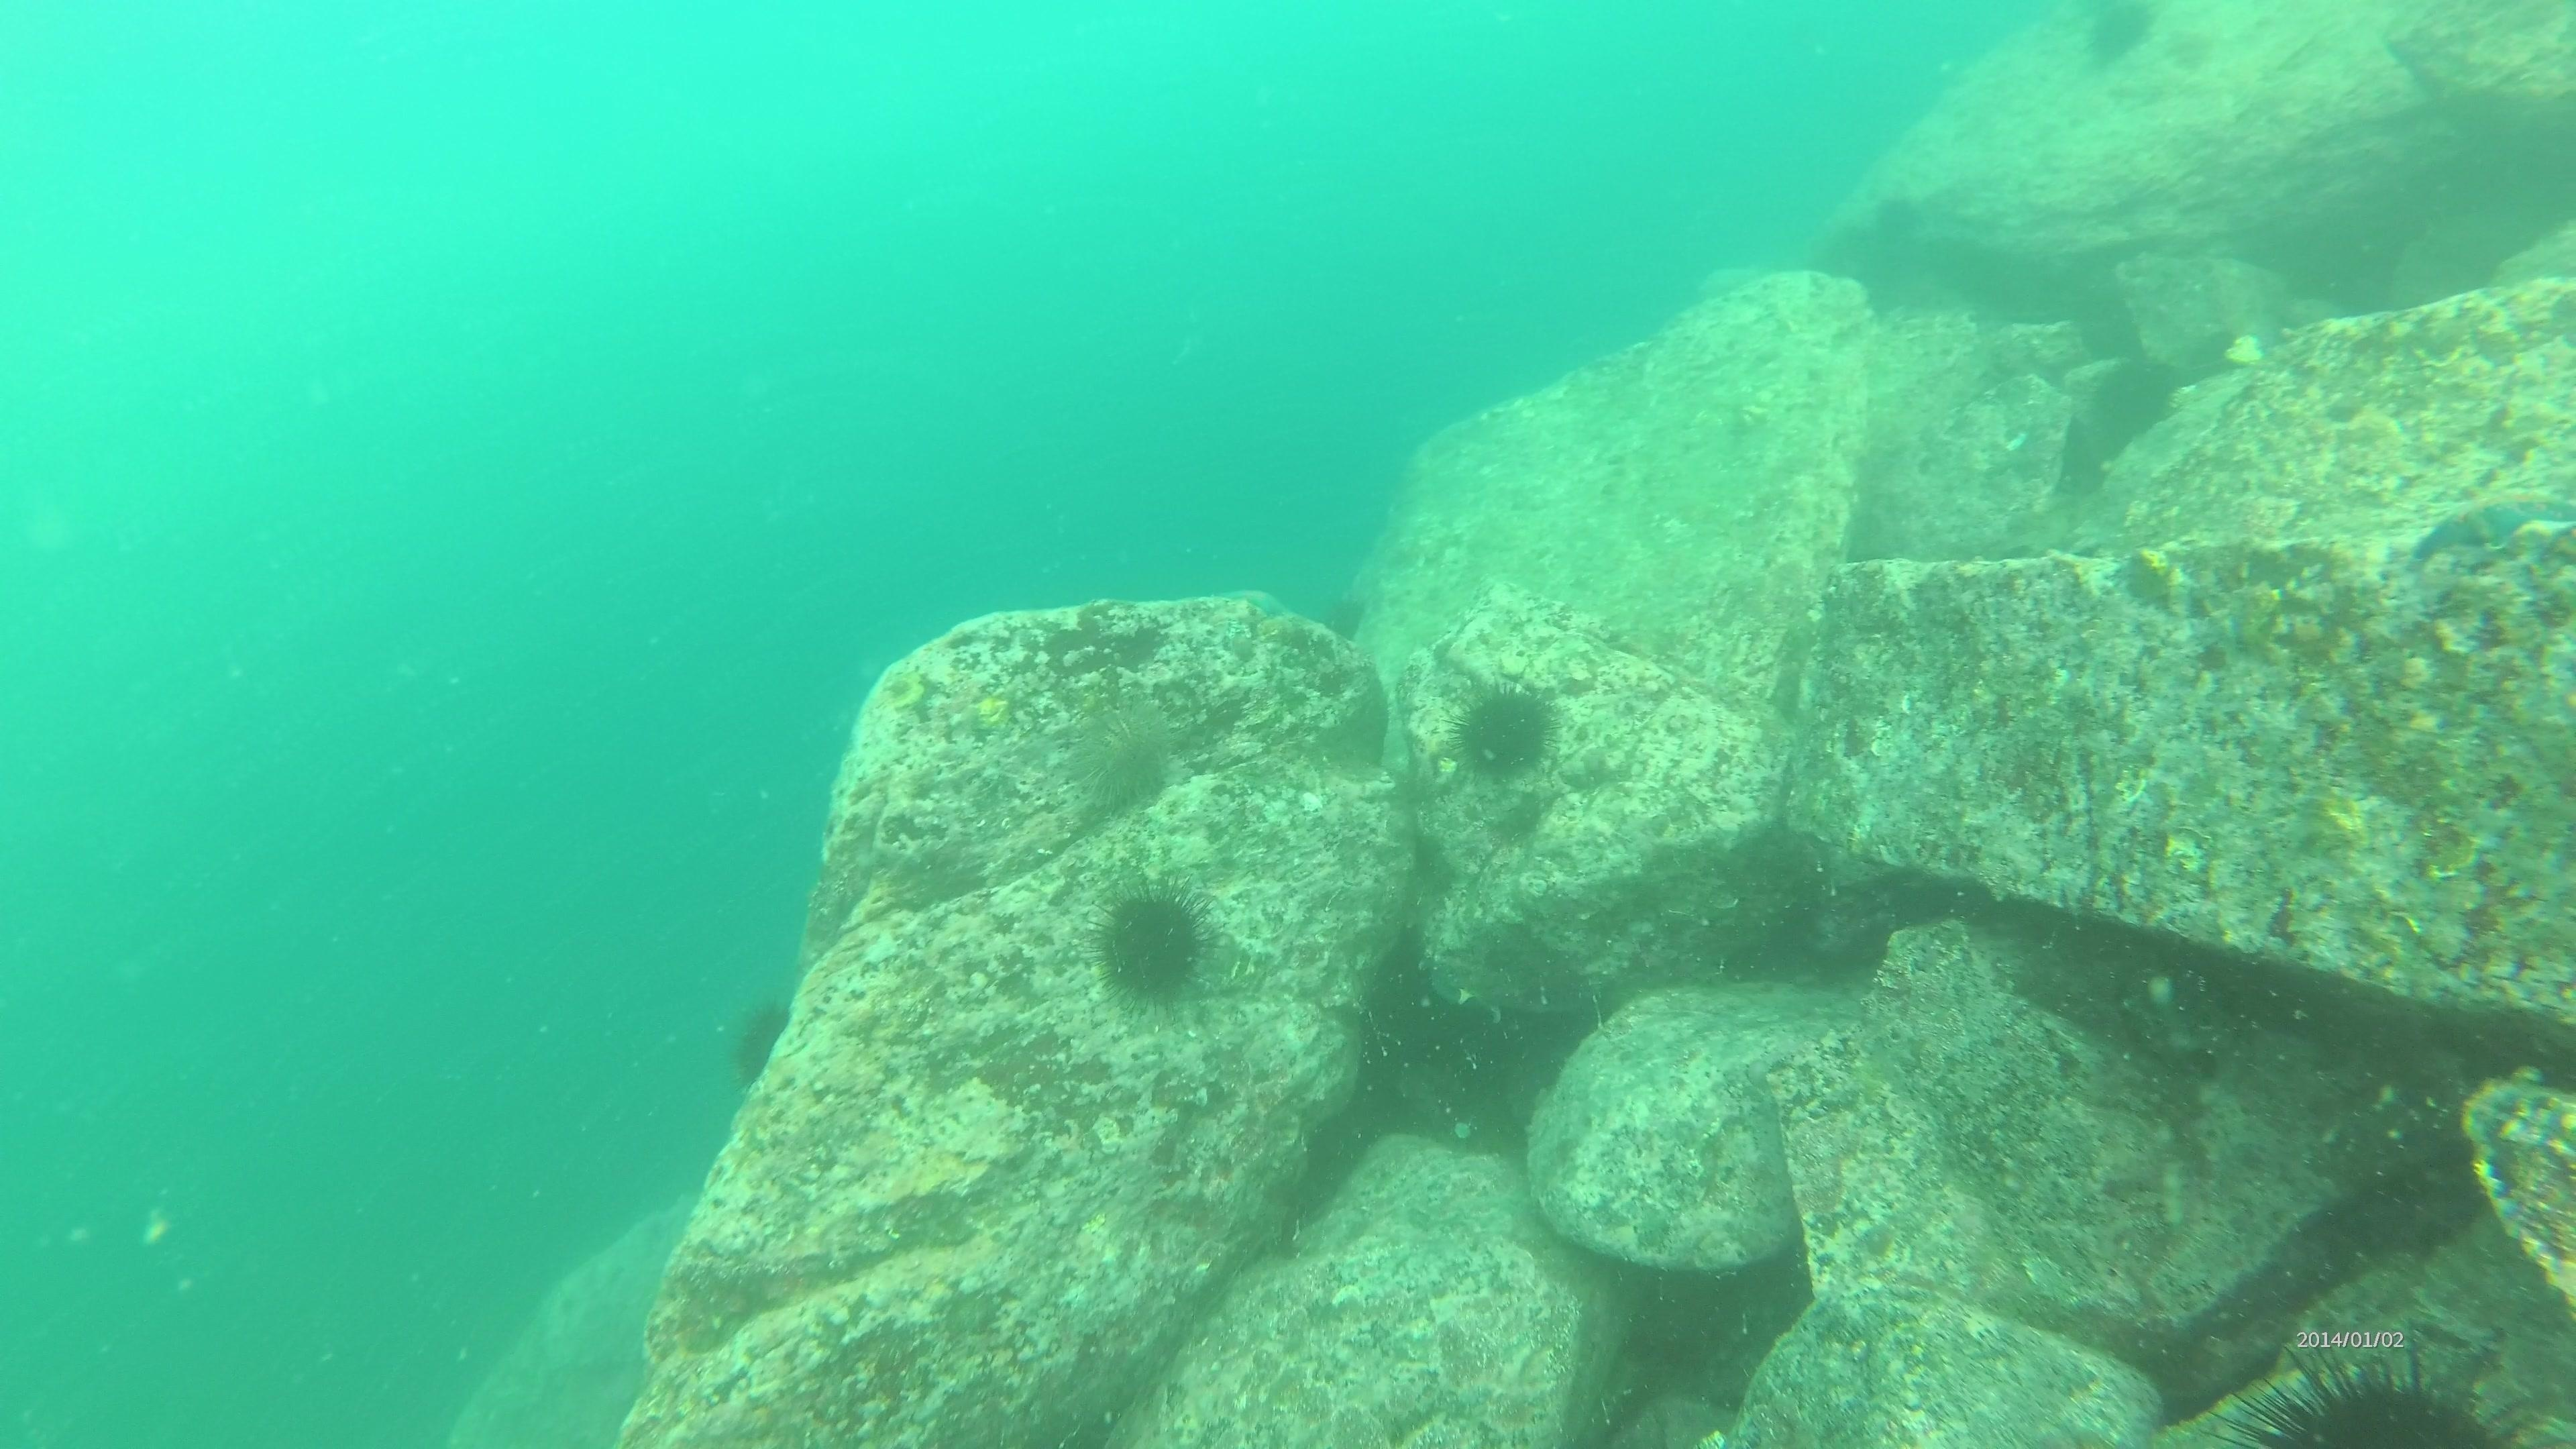echinus: (2235, 1343, 2509, 1442), (1053, 674, 1184, 819), (1086, 878, 1217, 1014), (1445, 674, 1564, 787), (722, 993, 796, 1092), (2070, 2, 2162, 74)
starfish: (2401, 479, 2571, 570)
